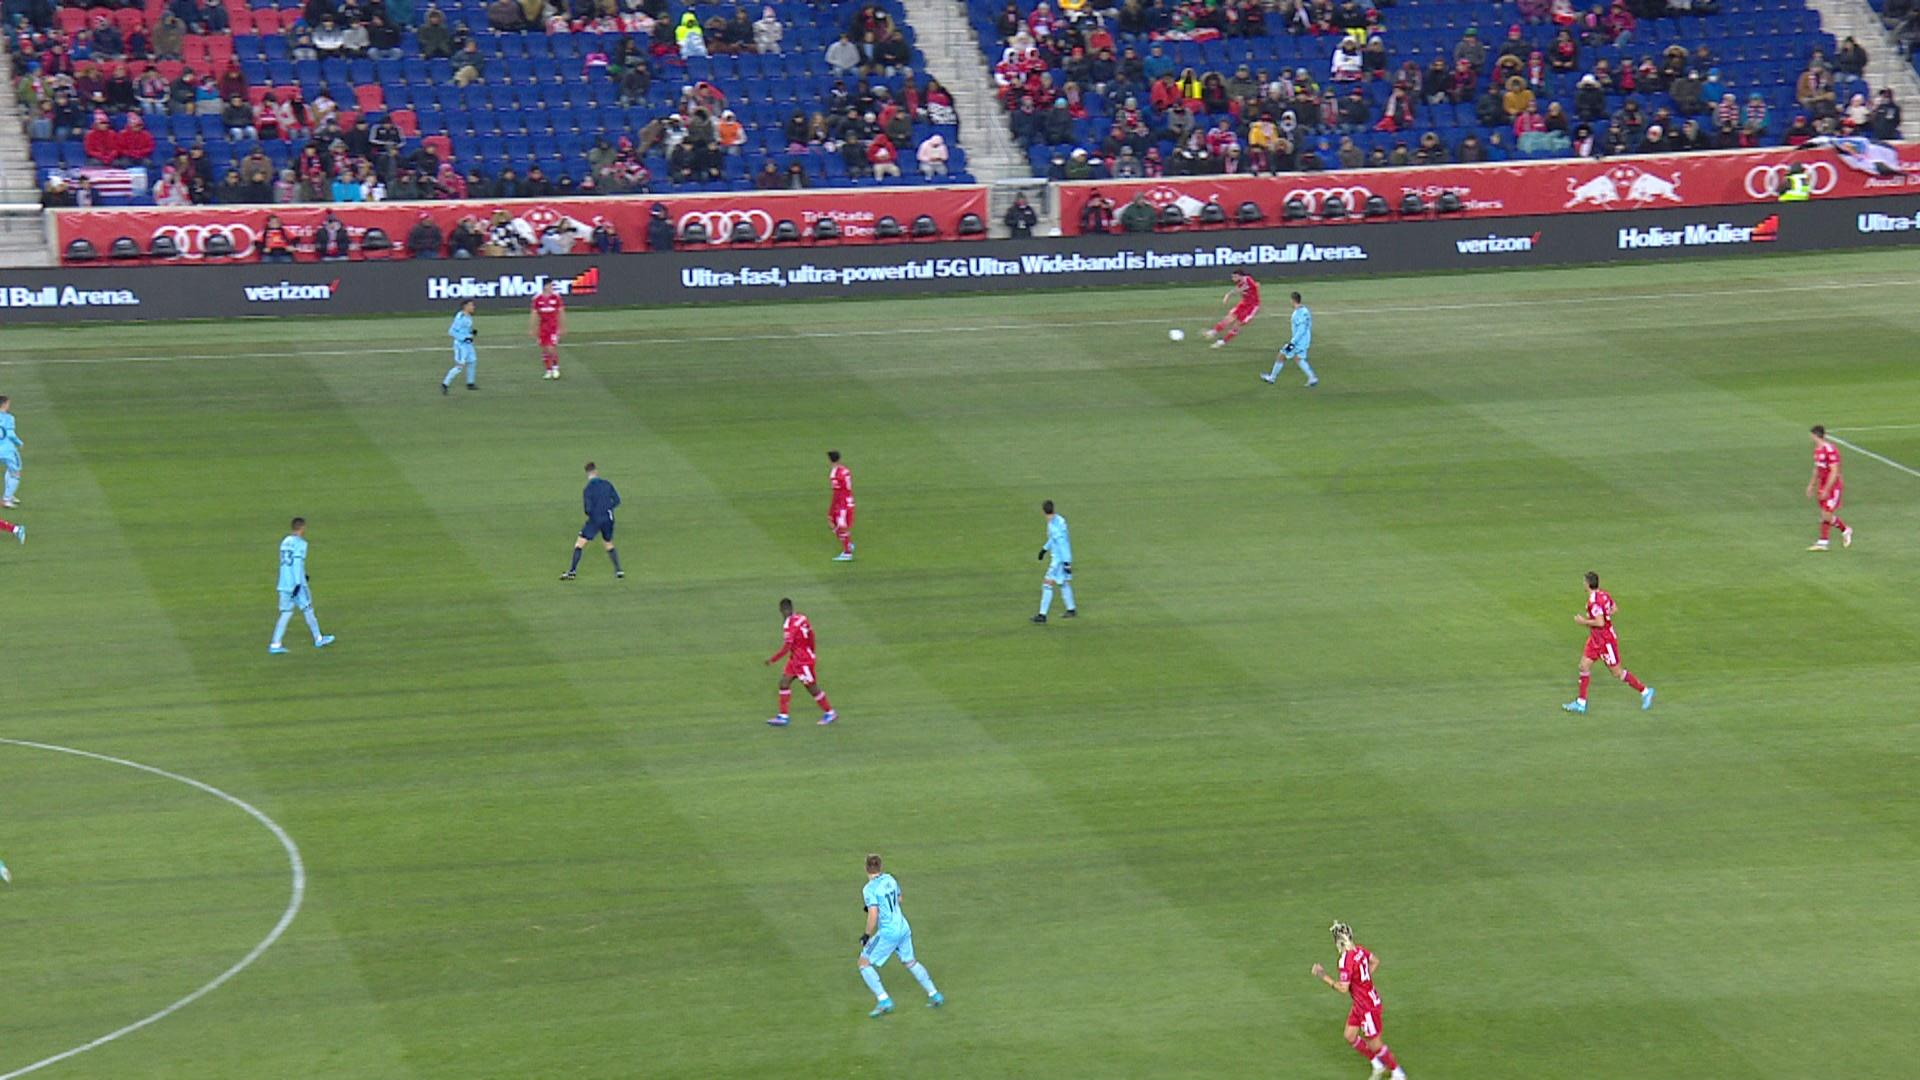football: (1169, 329, 1185, 341)
